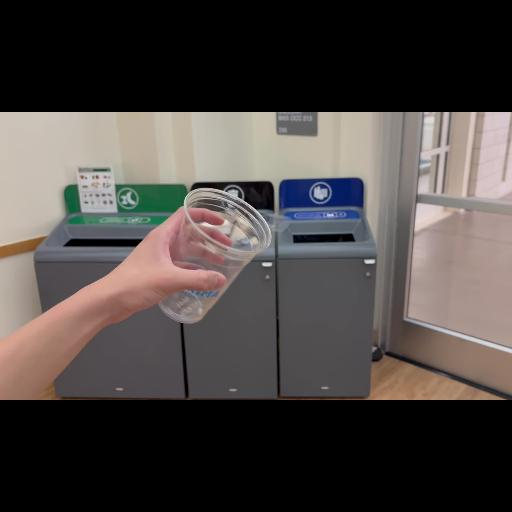lp_plastic_cup: (142, 185, 280, 331)
